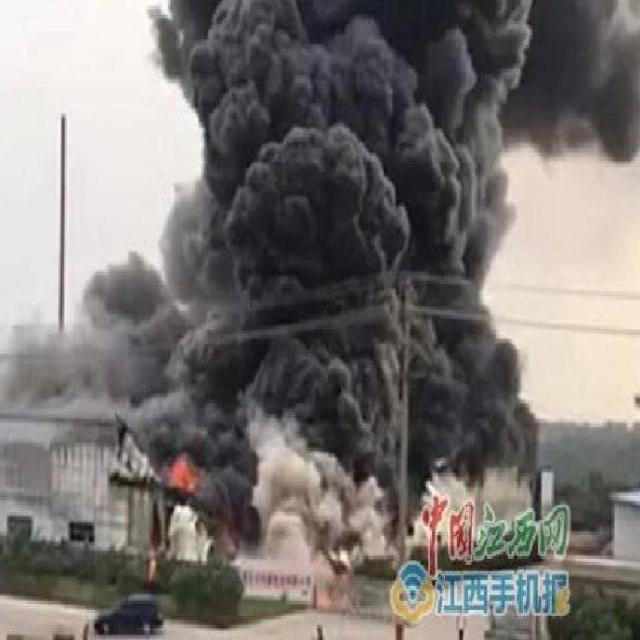Smoke: (1, 2, 640, 570)
